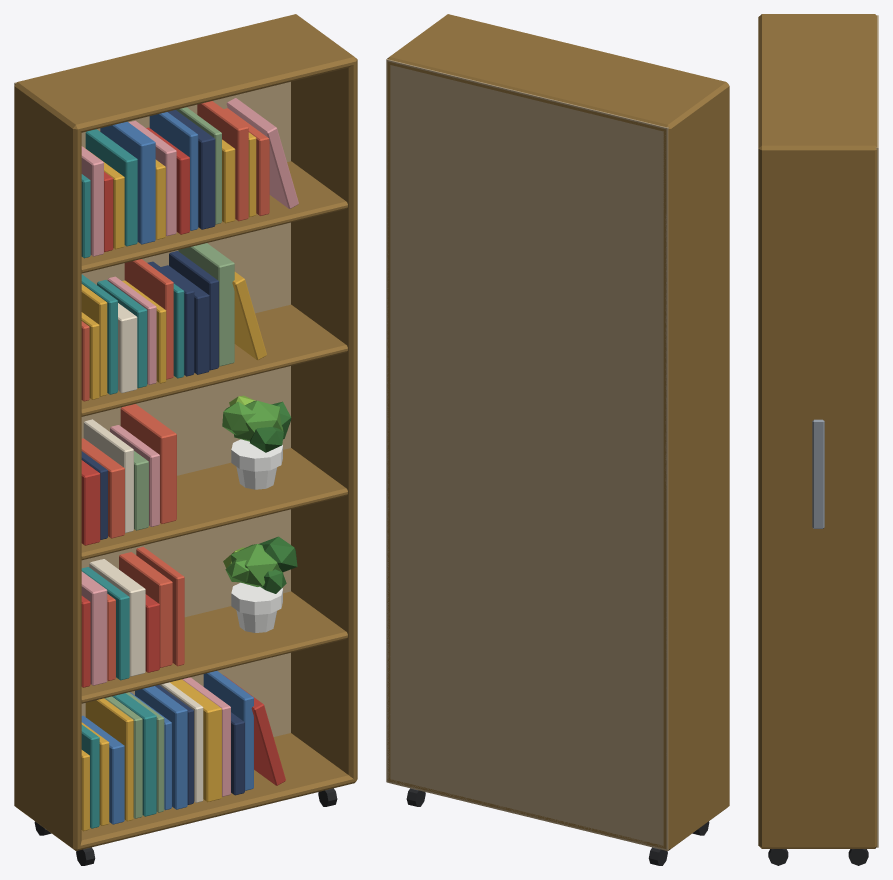
Rendered from sliding_bookcase.glb.
The picture shows the model from 3 angles, left to right: view 1: azimuth 30°, elevation 25°; view 2: azimuth 150°, elevation 25°; view 3: azimuth 270°, elevation 25°; orthographic projection. The views are drawn at different scales.
Visible parts, largest first — view 1: sliding_bookcase_Body; view 2: sliding_bookcase_Body; view 3: sliding_bookcase_Body.
Part boxes in pixels (x1=…): sliding_bookcase_Body: x1=14, y1=14, x2=357, y2=865; sliding_bookcase_Body: x1=386, y1=14, x2=729, y2=865; sliding_bookcase_Body: x1=758, y1=14, x2=878, y2=865.
Bounding box in the file's own units: 0.8 × 2 × 0.3.
